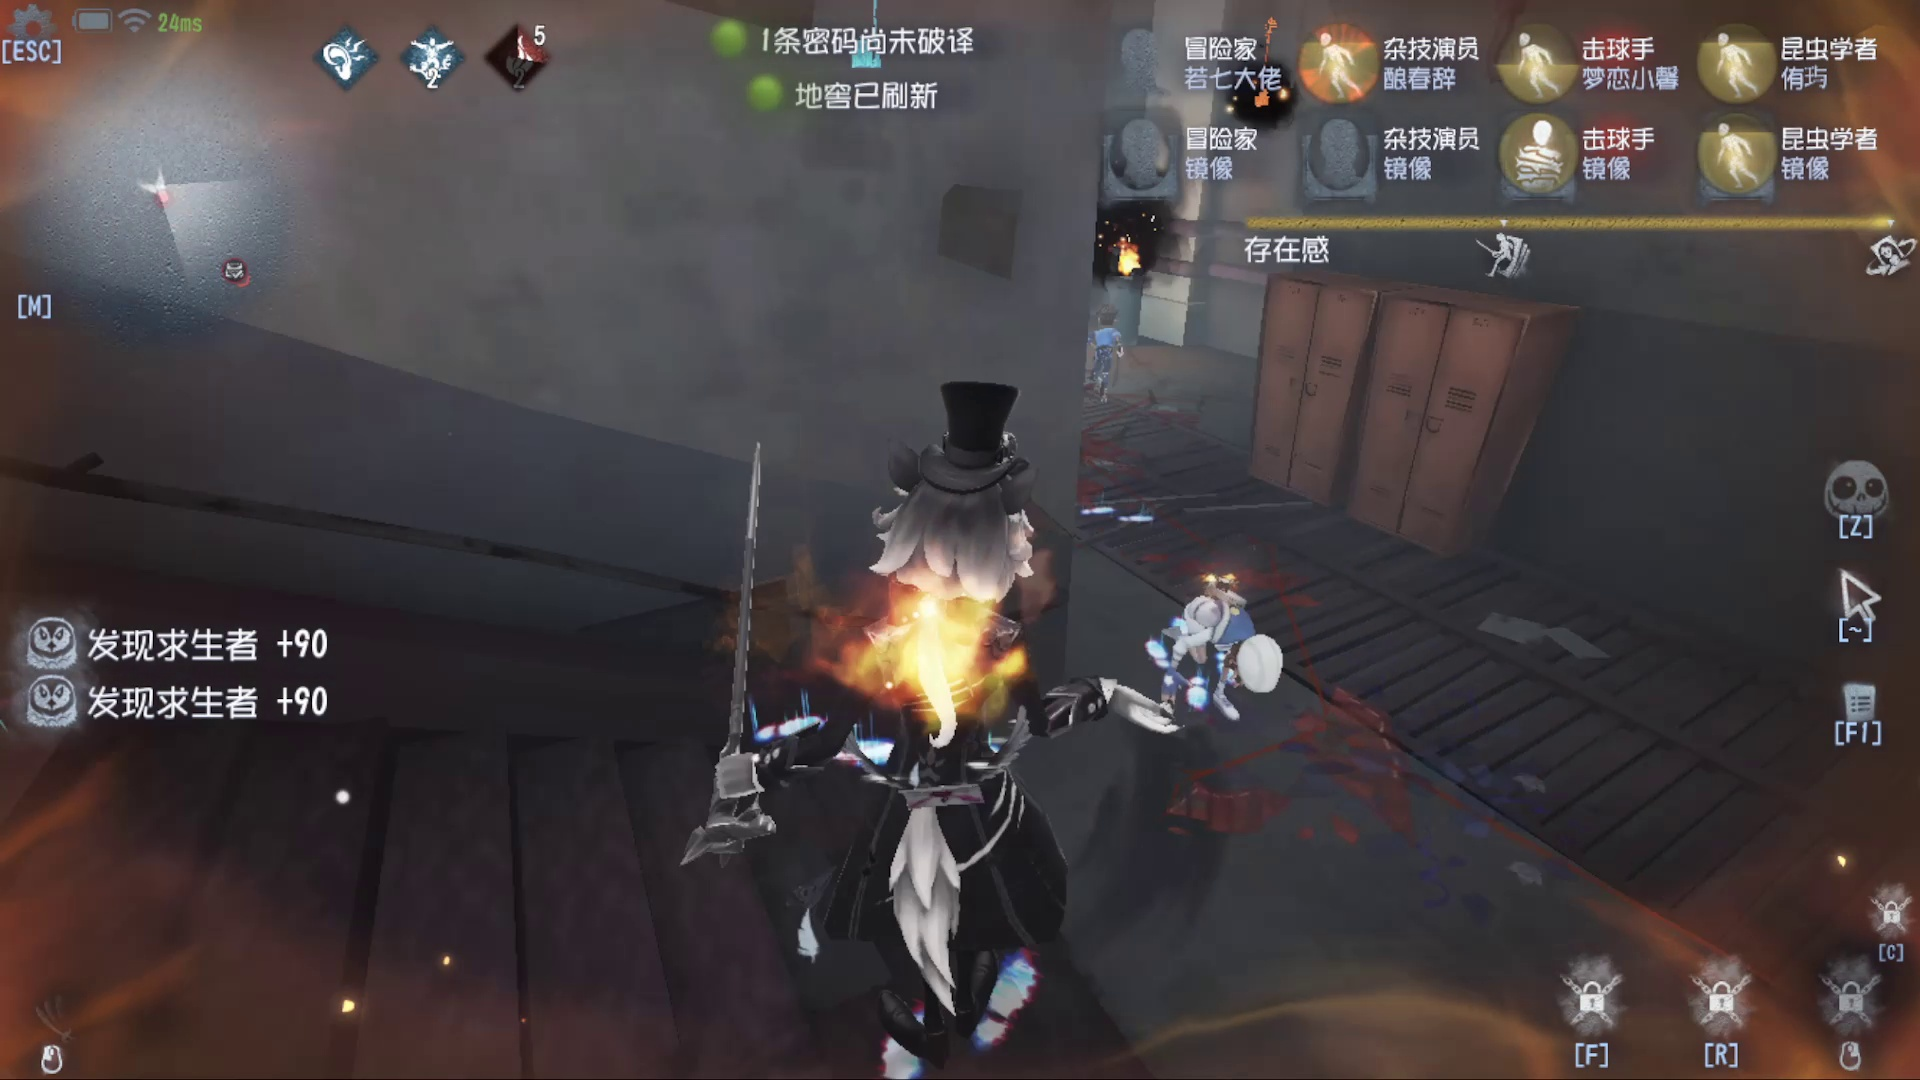求生者: (1125, 578, 1267, 740), (1077, 301, 1146, 407)
脚印: (1185, 717, 1425, 882)
